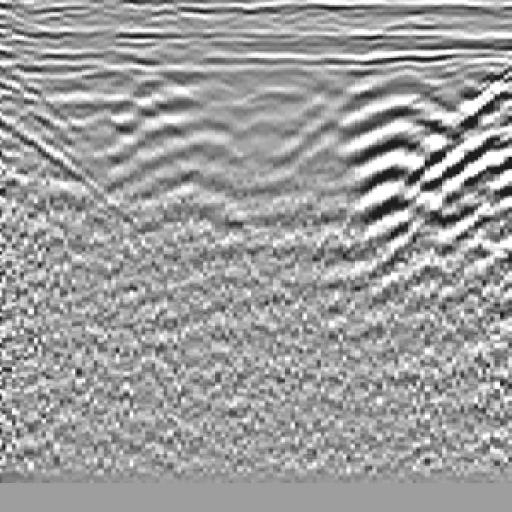metalic: (98, 31, 292, 260)
nonmetalic: (401, 41, 512, 272)
